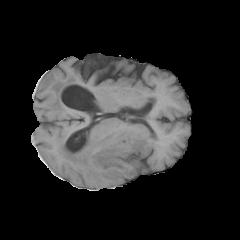glioma: (56, 124, 158, 176)
